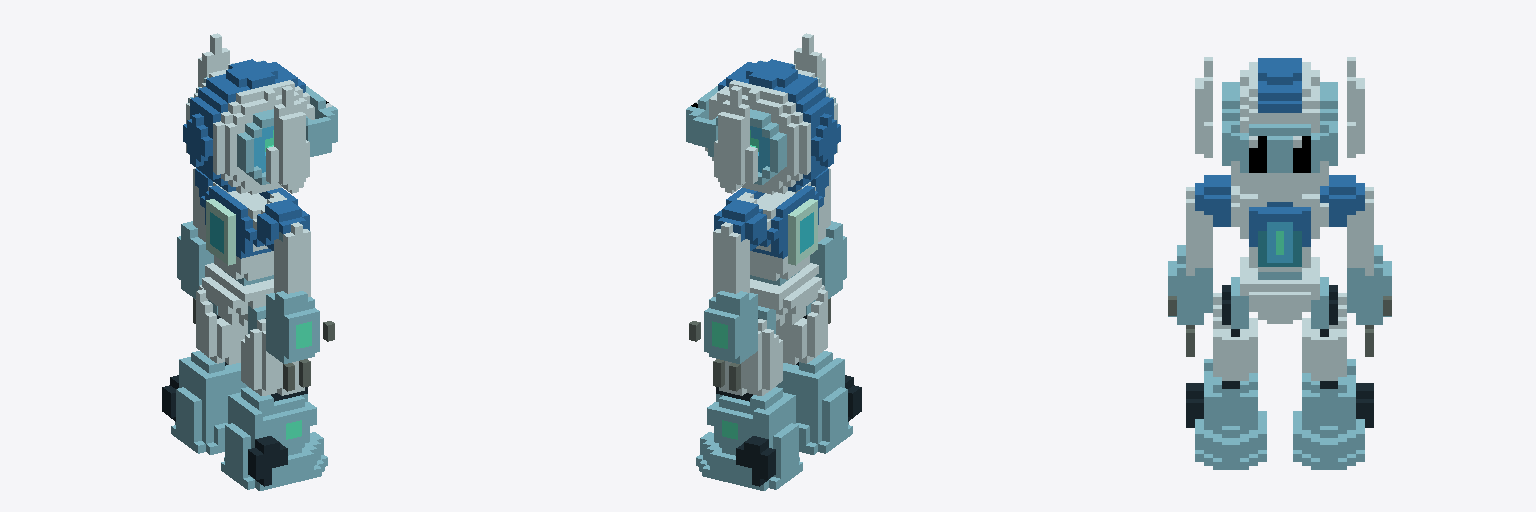
3 views of the same model, side by side, from view 1: azimuth 30°, elevation 25°; view 2: azimuth 150°, elevation 25°; view 3: azimuth 270°, elevation 25° (orthographic).
Visible parts, largest first — view 1: object 1; view 2: object 1; view 3: object 1.
Boxes of the visible parts, x1,y1,x2,y2 form: object 1: [162, 33, 337, 490]; object 1: [686, 33, 861, 490]; object 1: [1168, 57, 1391, 469].
Size of the model in its own units: 1.6 by 4.8 by 2.5.
1 materials, 1 textured.